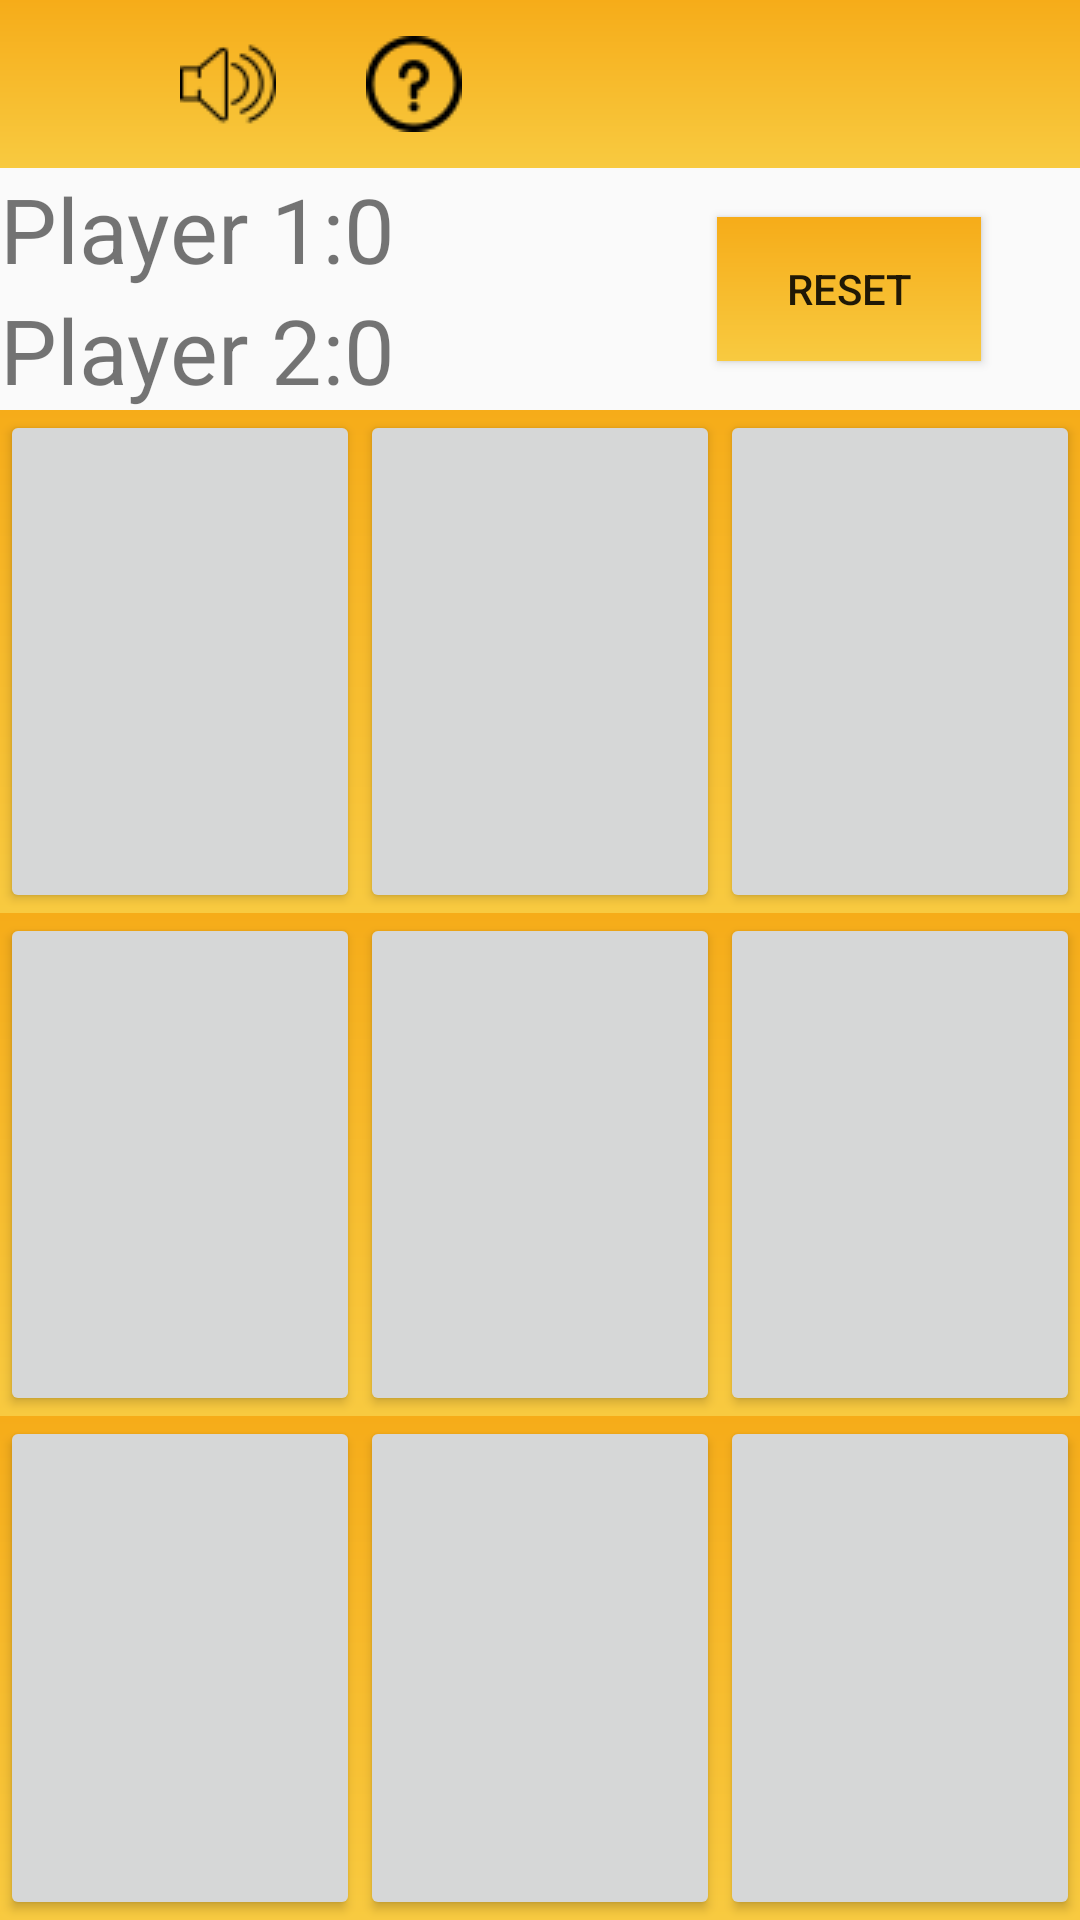

Where to tap for icons on this 1080px×1920px app screen, as [x,y]:
information: [414,84]
speaker: [228,88]
